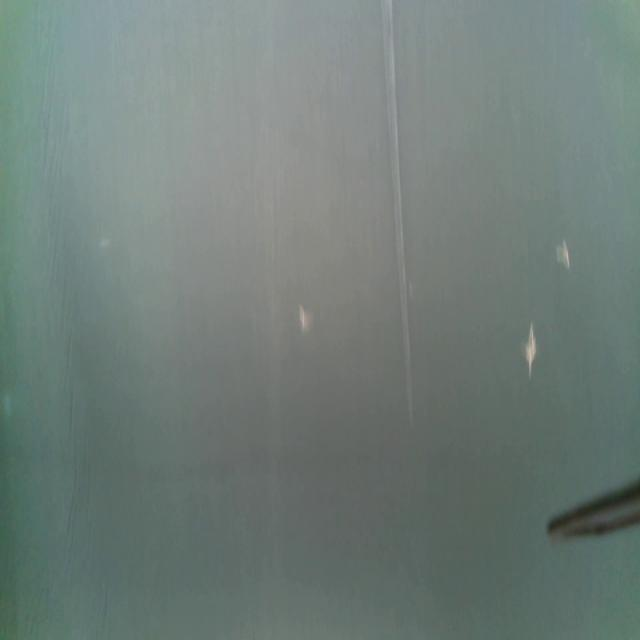crease: (375, 0, 416, 422)
hole: (554, 236, 575, 274), (525, 323, 536, 377), (298, 301, 312, 339)
